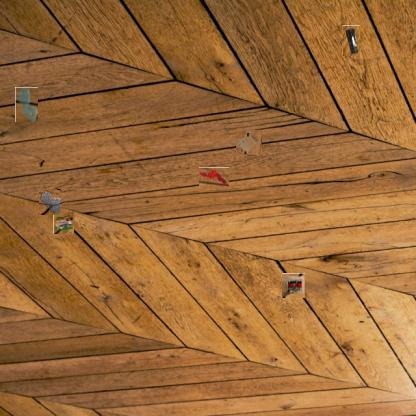dirty: (281, 273, 305, 298), (238, 132, 262, 156), (199, 167, 229, 186), (342, 25, 360, 56), (53, 213, 75, 234)
liquid: (15, 87, 38, 122), (38, 189, 62, 215)
